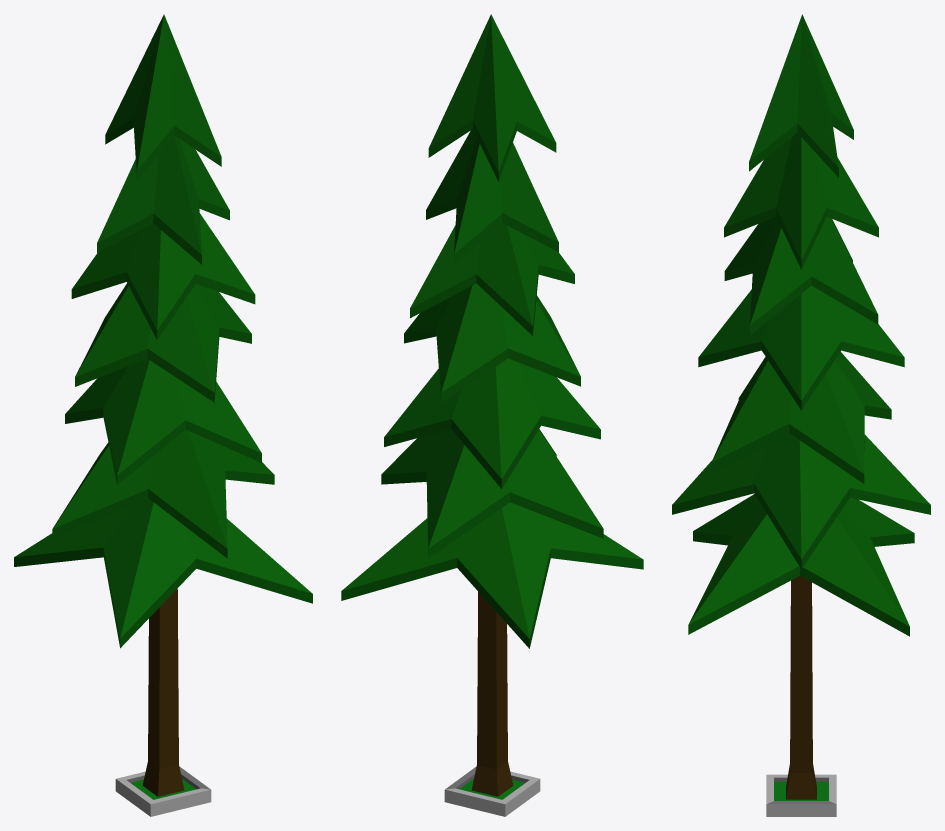
Rendered from Trees-04.fbx.
The picture shows the model from 3 angles, left to right: view 1: azimuth 30°, elevation 25°; view 2: azimuth 150°, elevation 25°; view 3: azimuth 270°, elevation 25°; orthographic projection.
Parts seen in each view (by area): view 1: Trees-01; view 2: Trees-01; view 3: Trees-01.
Part boxes in pixels (x1,y1,x2,y2): Trees-01: (14,14,312,816); Trees-01: (341,14,643,816); Trees-01: (672,14,930,816).
Bounding box in the file's own units: 3.68 × 12.37 × 3.68.
